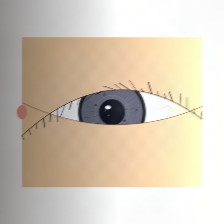pterygium_lesion: (161, 96, 201, 128)
